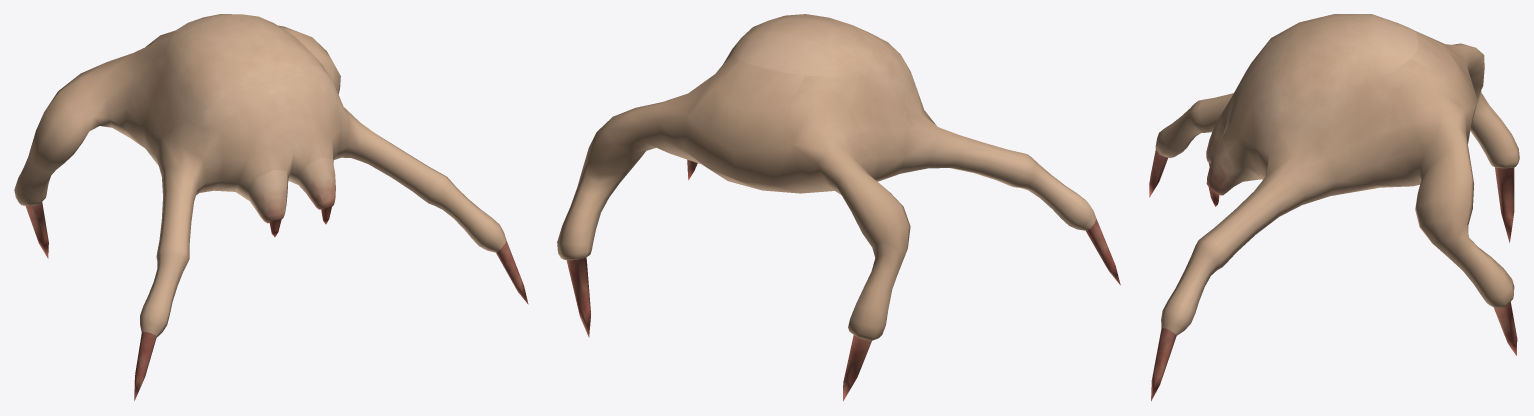
Rendered from monster.obj.
3 views of the same model, side by side, from view 1: azimuth 30°, elevation 25°; view 2: azimuth 150°, elevation 25°; view 3: azimuth 270°, elevation 25° (orthographic). The views are drawn at different scales.
Visible parts, largest first — view 1: Cube; view 2: Cube; view 3: Cube.
Part boxes in pixels (box(x1,y1,x2,y2)): Cube: box(14, 14, 528, 400); Cube: box(557, 14, 1120, 401); Cube: box(1149, 14, 1519, 401).
Bounding box in the file's own units: 4.17 × 2.64 × 3.2.
